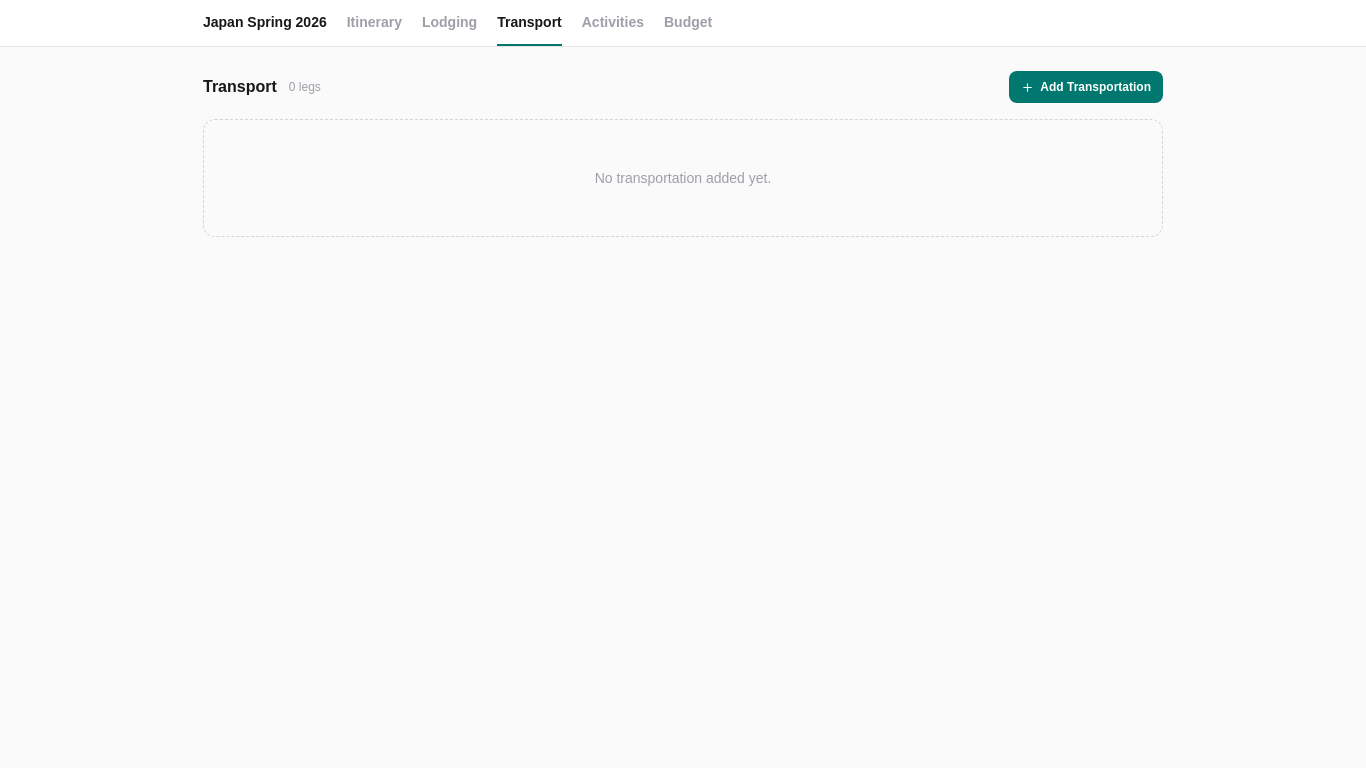
Test: Transportation page — Add form validation › shows departure date error when locations are filled but dates are missing
Click the button "Add Transportation" at (1086, 87), box 1009,71 -> 1163,103
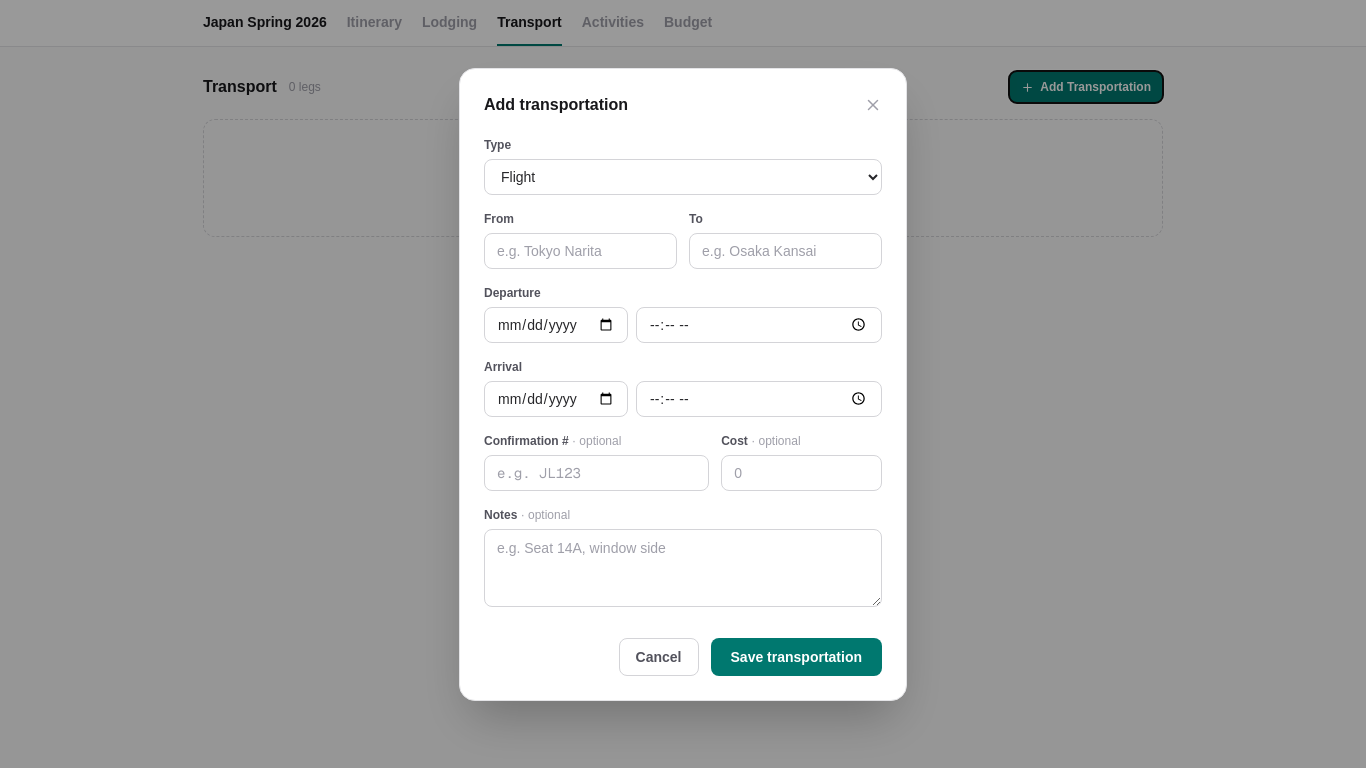
Type "Tokyo Narita" into the field with placeholder "e.g. Tokyo Narita" at (580, 250), box 484,232 -> 677,268
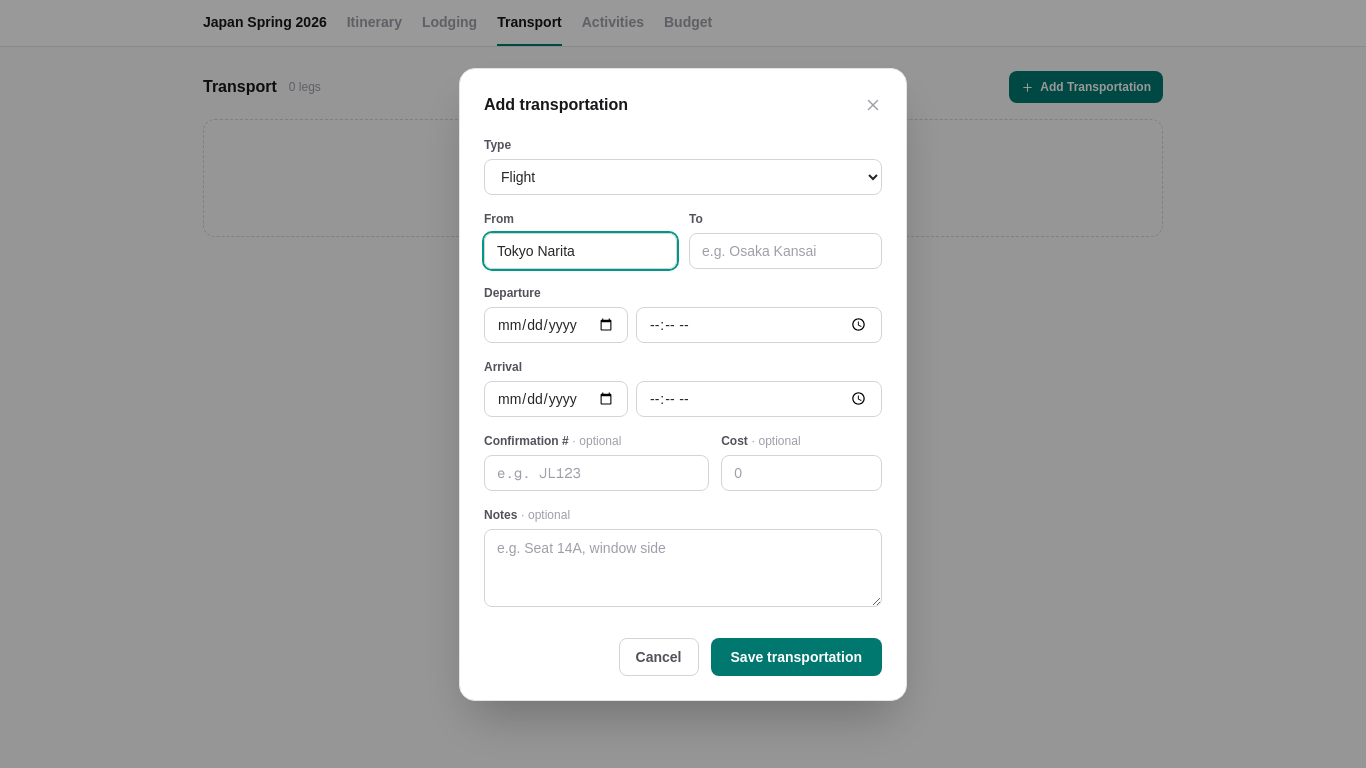
Type "Osaka Kansai" into the field with placeholder "e.g. Osaka Kansai" at (786, 250), box 689,232 -> 882,268
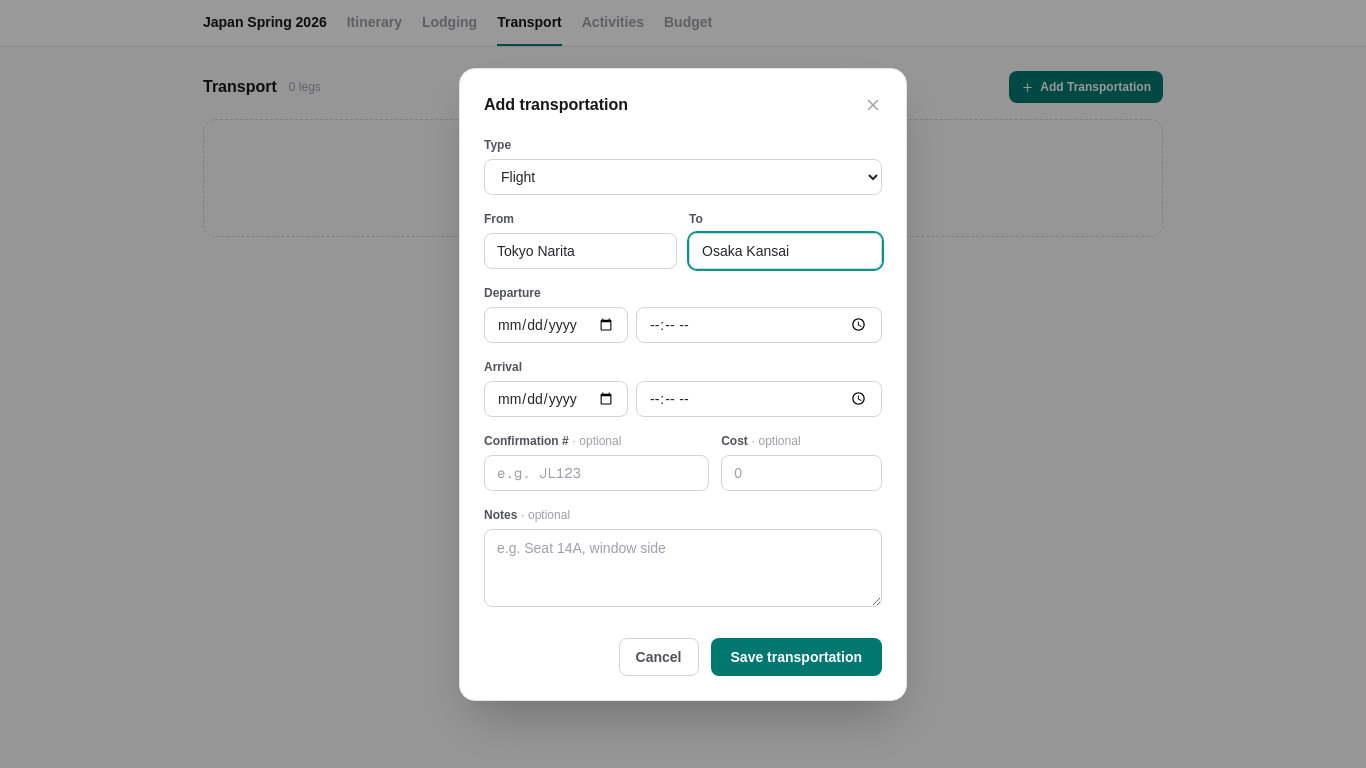
Click the button "Save transportation" at (796, 656), box 710,638 -> 882,676
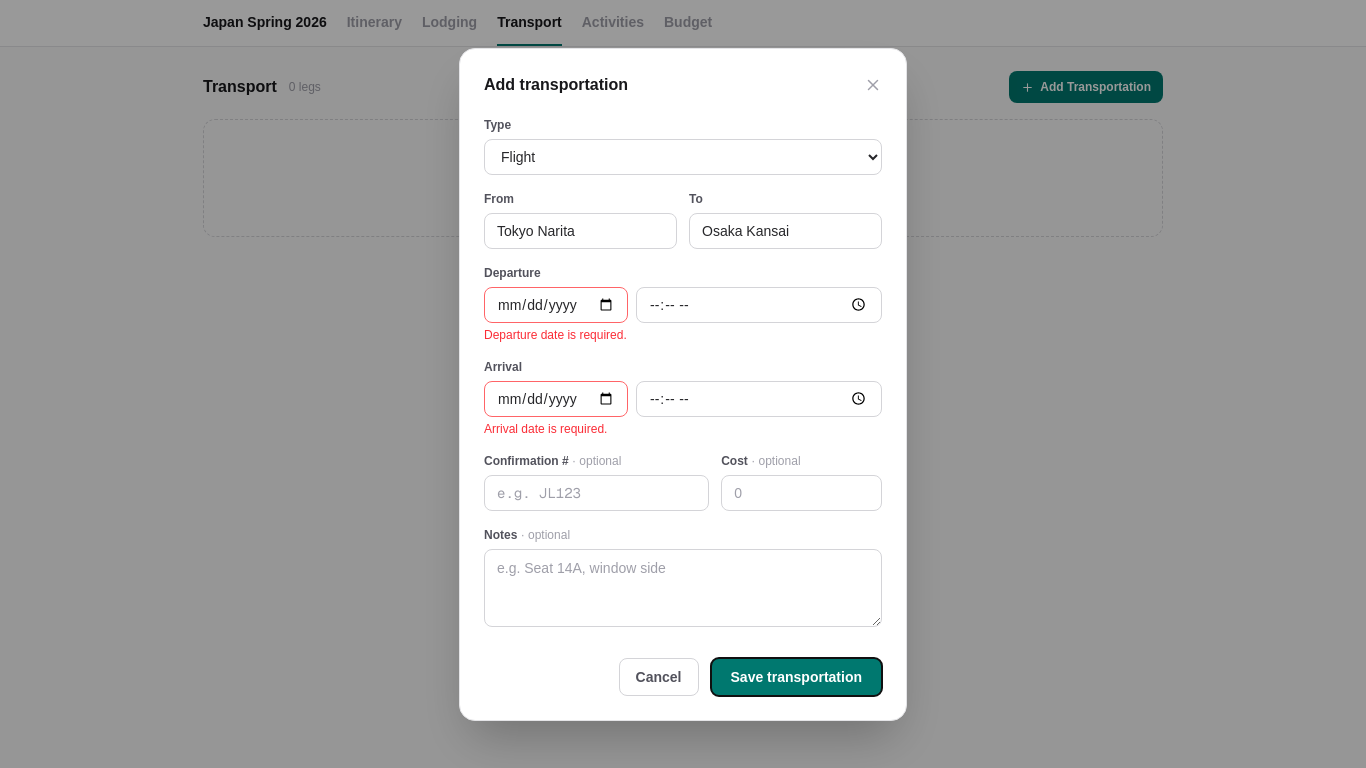
Now the text "Departure date is required." is shown, box 484,328 -> 627,342
